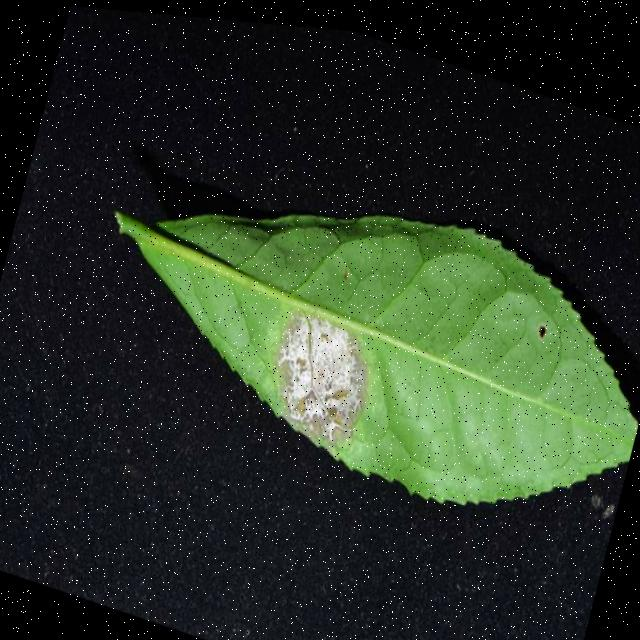Tea exobasidium blight: (252, 298, 376, 442)
